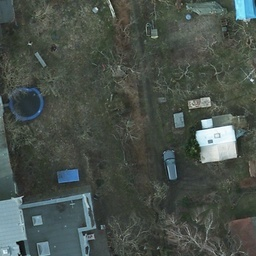car: (159, 150, 182, 182)
